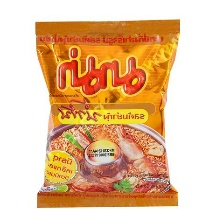snack: (27, 11, 186, 212)
